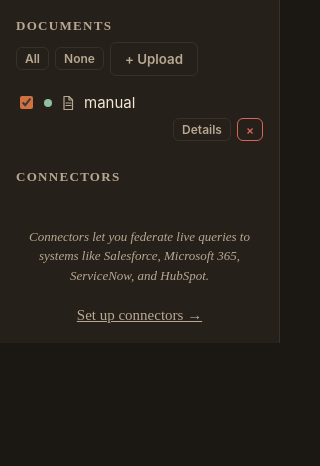
Test: Sources — document details › shows a type icon and expands metadata on Details, collapsing again on Hide
The width and height of the screenshot is (320, 466).
Expected: the icon with class "file-icon" is shown, [60, 95, 76, 111]
Expected: the text "Pages" is not shown
Click the button "Details" at (202, 130), box [173, 118, 231, 141]
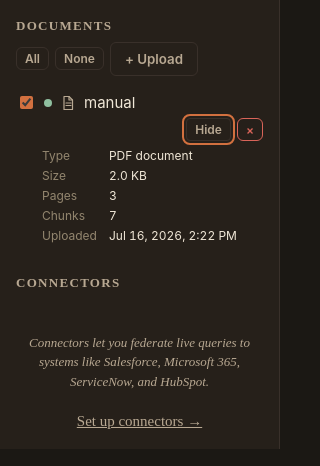
Expected: the text "Pages" is shown, [42, 188, 77, 203]
Expected: the text "3" is shown, [109, 188, 117, 203]
Expected: the text "2.0 KB" is shown, [109, 168, 147, 183]
Click the button "Hide" at (209, 130), box [186, 118, 231, 141]
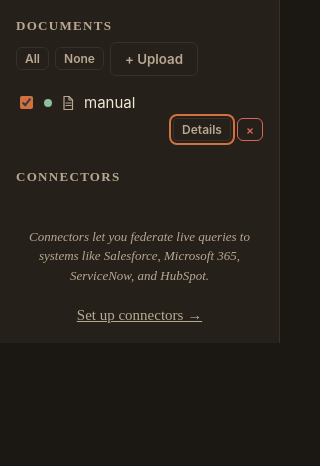
Expected: the text "Pages" is gone
